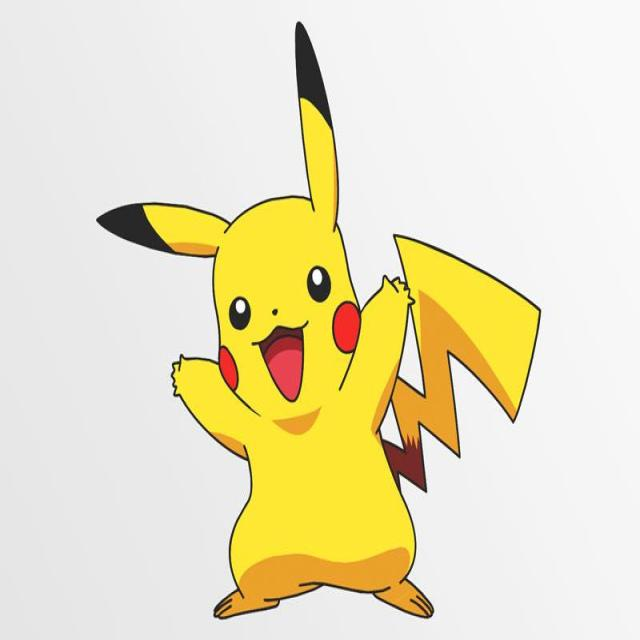pikachu: (97, 29, 541, 619)
